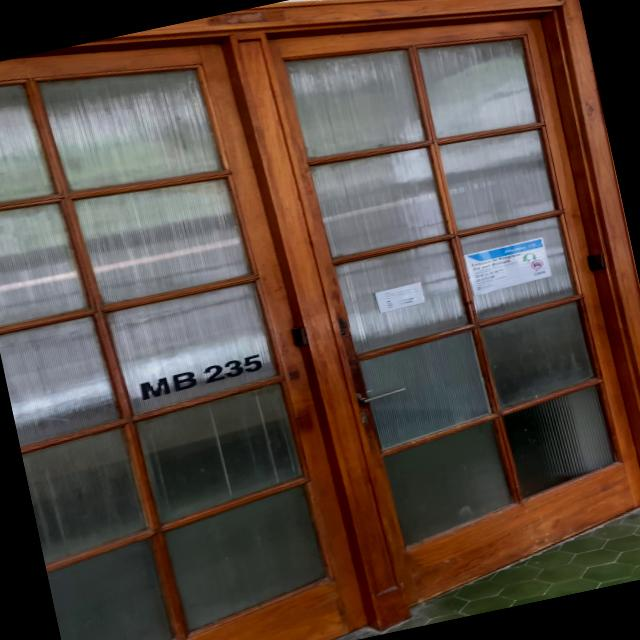room235Window: (132, 348, 270, 399)
